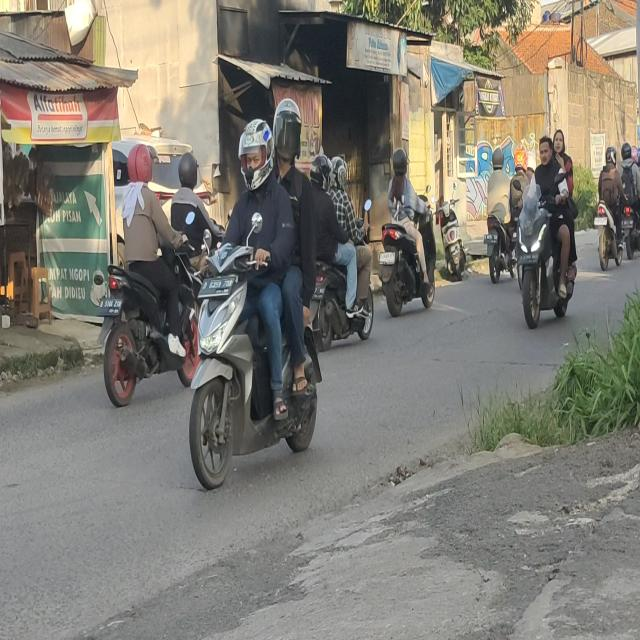helmet: (241, 119, 276, 181), (275, 98, 303, 160), (126, 143, 156, 185), (180, 152, 199, 189), (312, 154, 330, 190), (332, 152, 348, 190), (393, 147, 409, 175), (514, 147, 528, 171), (492, 147, 506, 168), (606, 146, 616, 166), (528, 152, 537, 170), (622, 143, 631, 160), (631, 147, 639, 163)
no-helmet: (540, 137, 552, 164), (555, 130, 564, 154)
